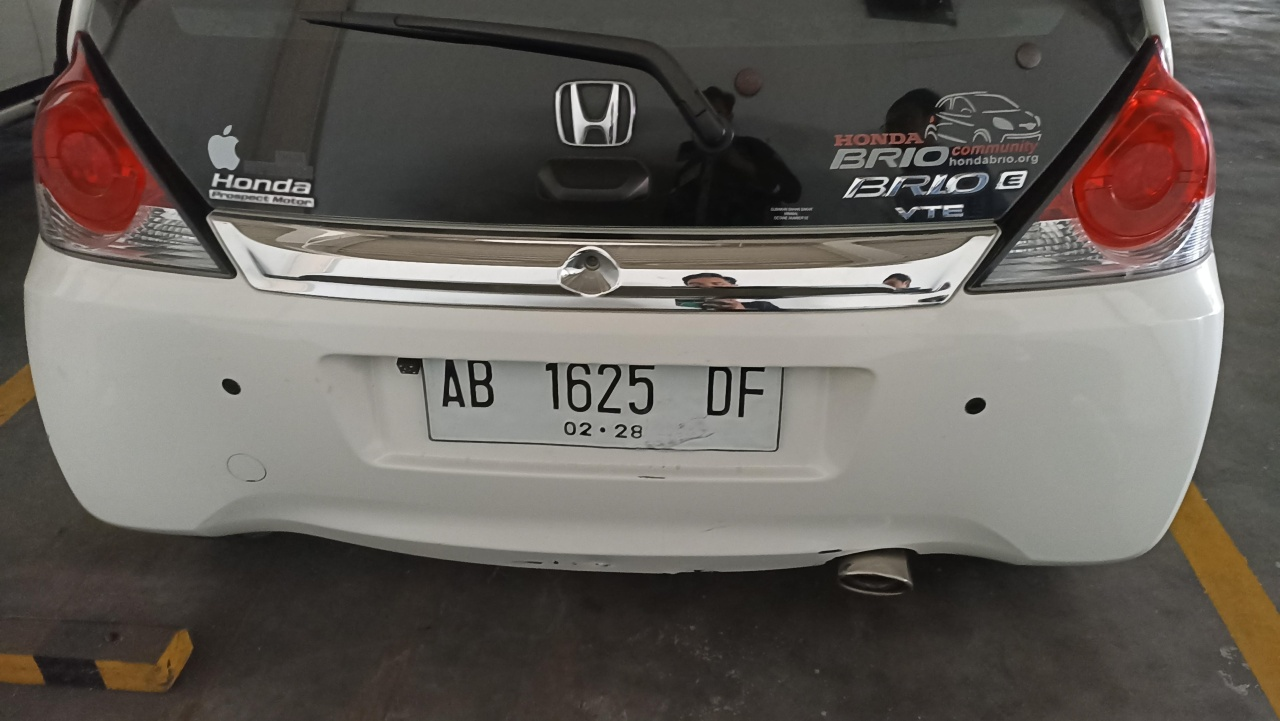plate: (425, 359, 785, 449)
